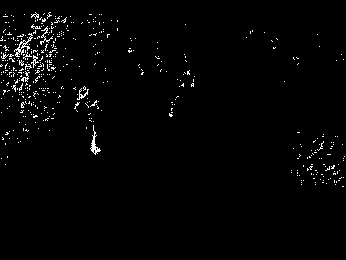person: (73, 86, 101, 153)
